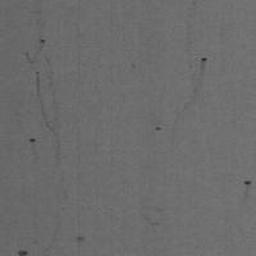Inclusion: (35, 71, 49, 128), (25, 52, 34, 64), (18, 250, 28, 256)
